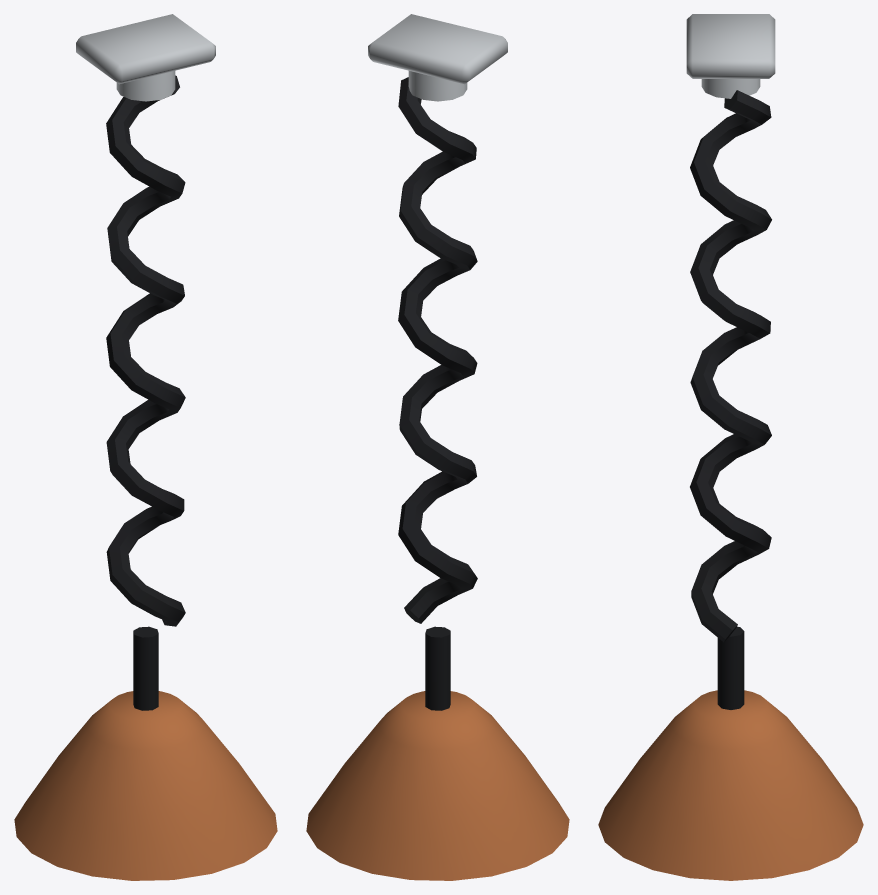
File: SM_Light_Heat_Bulb_Cord_01.glb
The picture shows the model from 3 angles, left to right: view 1: azimuth 30°, elevation 25°; view 2: azimuth 150°, elevation 25°; view 3: azimuth 270°, elevation 25°; orthographic projection.
Visible parts, largest first — view 1: SM_Light_Heat_Bulb_Cord_01; view 2: SM_Light_Heat_Bulb_Cord_01; view 3: SM_Light_Heat_Bulb_Cord_01.
Boxes of the visible parts, bbox=[...] form: SM_Light_Heat_Bulb_Cord_01: bbox=[14, 14, 277, 880]; SM_Light_Heat_Bulb_Cord_01: bbox=[306, 14, 569, 880]; SM_Light_Heat_Bulb_Cord_01: bbox=[598, 14, 863, 880].
Bounding box in the file's own units: 0.36 × 1.2 × 0.36.
Materials: 1 (1 with a texture image).
